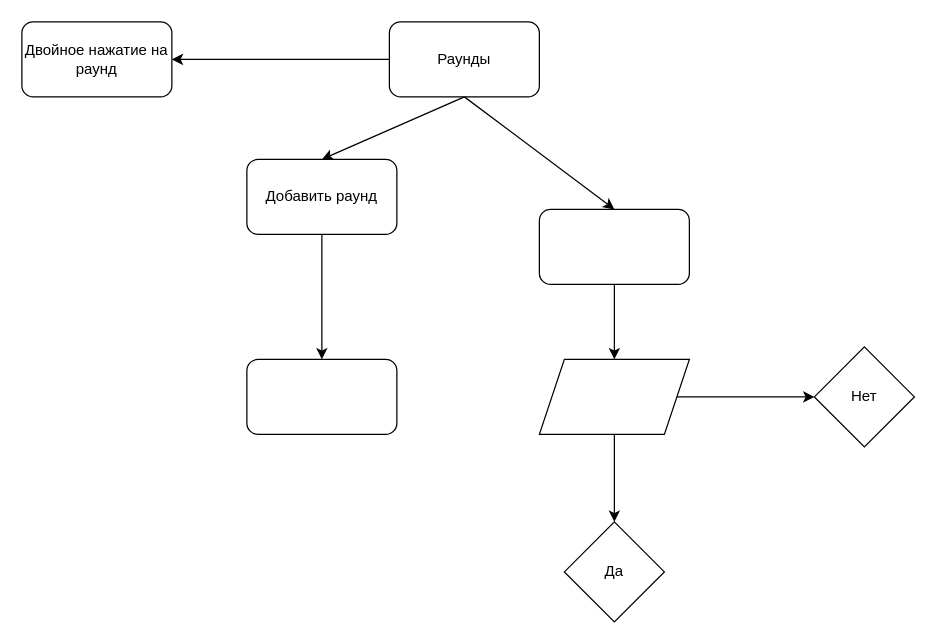
The diagram is 936 pixels wide and 644 high, and some of its shapes have lost their labels. Each missing label, with the box of its shape:
Окно с раундом: (246, 358, 397, 434)
Раунд выбран?: (538, 358, 689, 434)
Удалить раунд: (538, 208, 689, 284)
